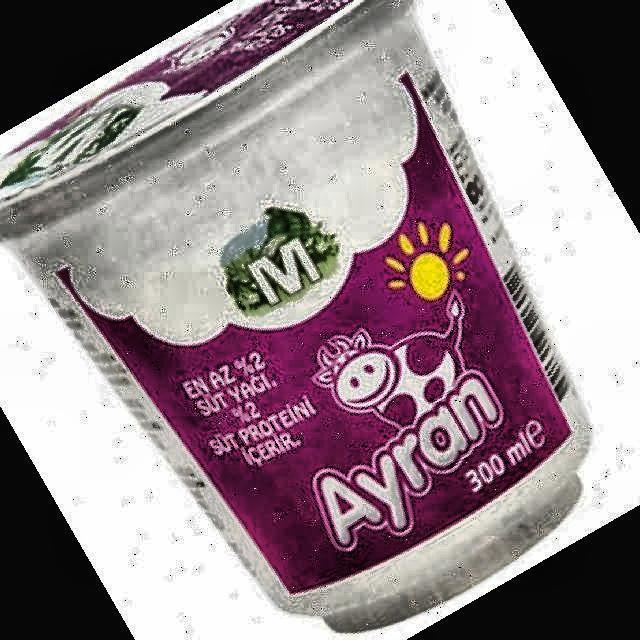plastic: (0, 0, 588, 636)
